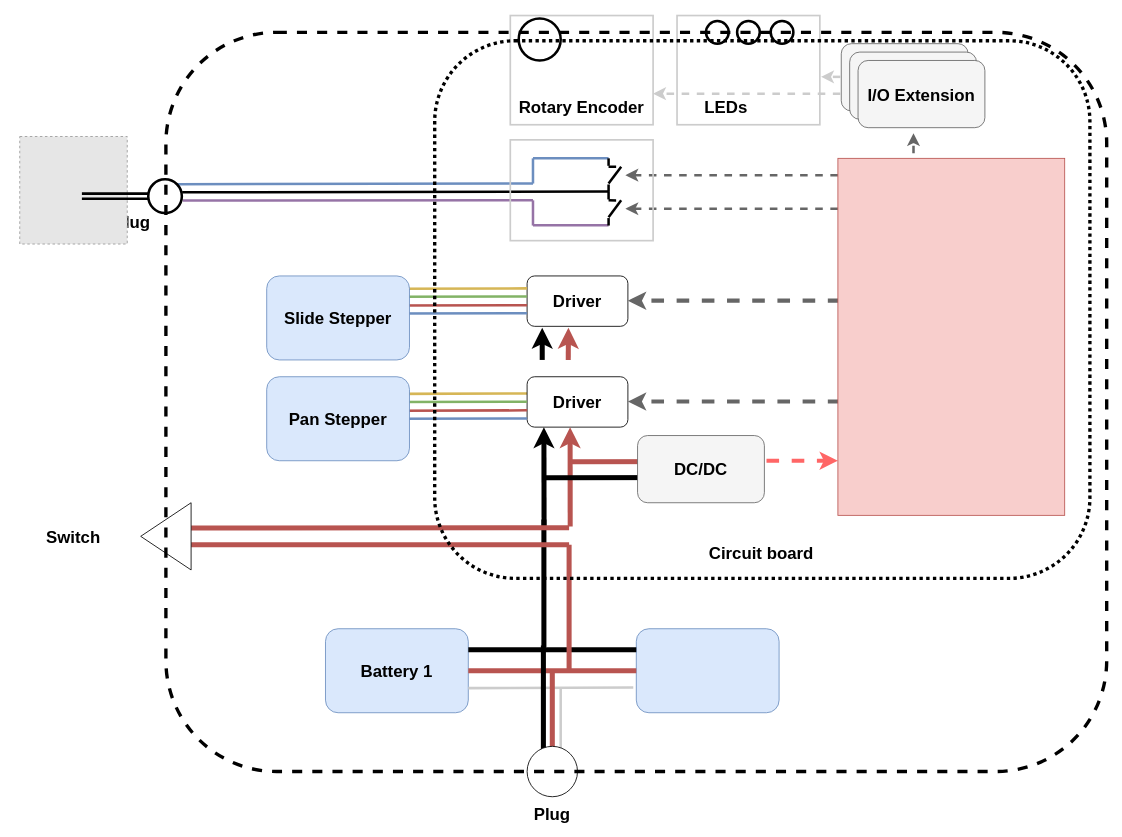
Image size: 1122x837. Some labels were removed from this diagram. Grey dashed boxes stand in for pictures. The box of each missing label's shape, as (x1, y1, x2, y2) in pixels:
Battery 2: (635, 628, 779, 713)
Microcontroller: (837, 158, 1065, 515)
